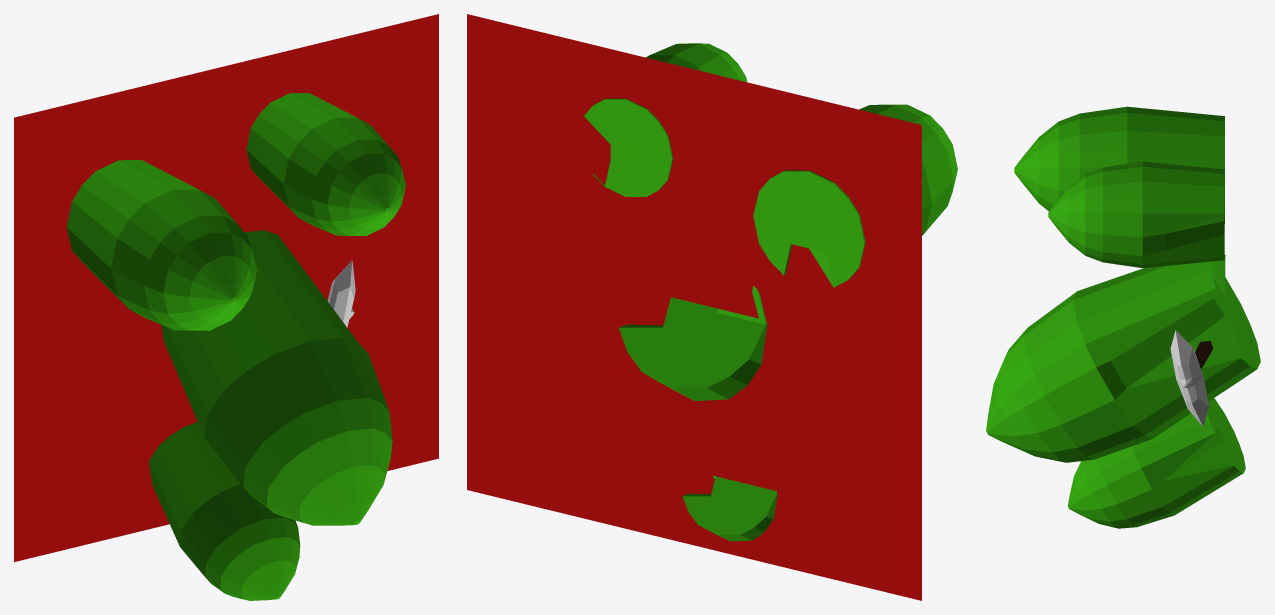
The model's file is GiantLiar2d.obj.
The picture shows the model from 3 angles, left to right: view 1: azimuth 30°, elevation 25°; view 2: azimuth 150°, elevation 25°; view 3: azimuth 270°, elevation 25°; orthographic projection. The views are drawn at different scales.
Parts seen in each view (by area): view 1: Plane.004, Plane, Plane.003, Plane.001, Plane.002, Cube.001_Cube.002; view 2: Plane.004, Plane.003, Plane, Plane.001, Plane.002; view 3: Plane, Plane.001, Plane.002, Plane.003, Cube.001_Cube.002.
Boxes of the visible parts, x1,y1,x2,y2 form: Plane.004: (14,14,438,561); Plane: (161,230,392,525); Plane.003: (66,160,256,330); Plane.001: (246,93,405,235); Plane.002: (149,422,300,600); Cube.001_Cube.002: (327,260,355,327); Plane.004: (467,14,921,600); Plane.003: (753,104,957,287); Plane: (619,286,767,400); Plane.001: (584,43,747,196); Plane.002: (682,475,777,541); Plane: (986,254,1260,462); Plane.001: (1048,161,1224,267); Plane.002: (1068,398,1245,528); Plane.003: (1014,106,1224,223); Cube.001_Cube.002: (1170,330,1212,426).
Bounding box in the file's own units: 1.26 × 1.36 × 0.7827.
